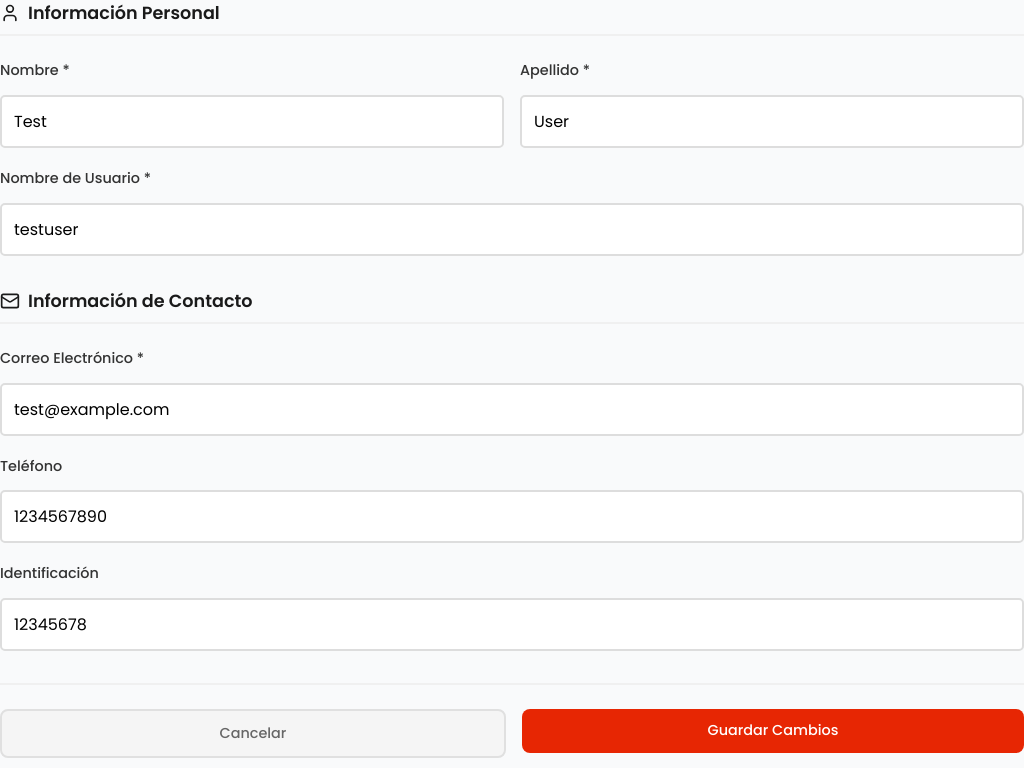
Test: ProfileEditForm › valida formato de teléfono
The image size is (1024, 768).
Replace the text in the field showing "1234567890" with "invalid-phone": (512, 517) x1=0 y1=490 x2=1023 y2=543
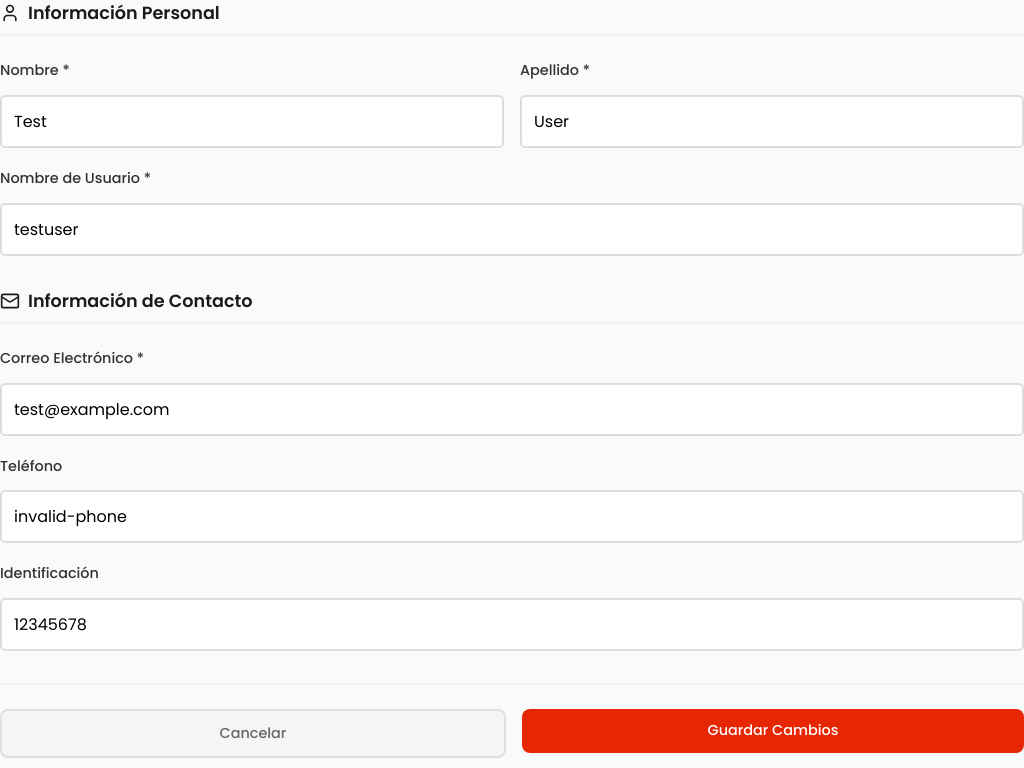
Click the button "Guardar Cambios": click(773, 731) x1=522 y1=709 x2=1023 y2=753
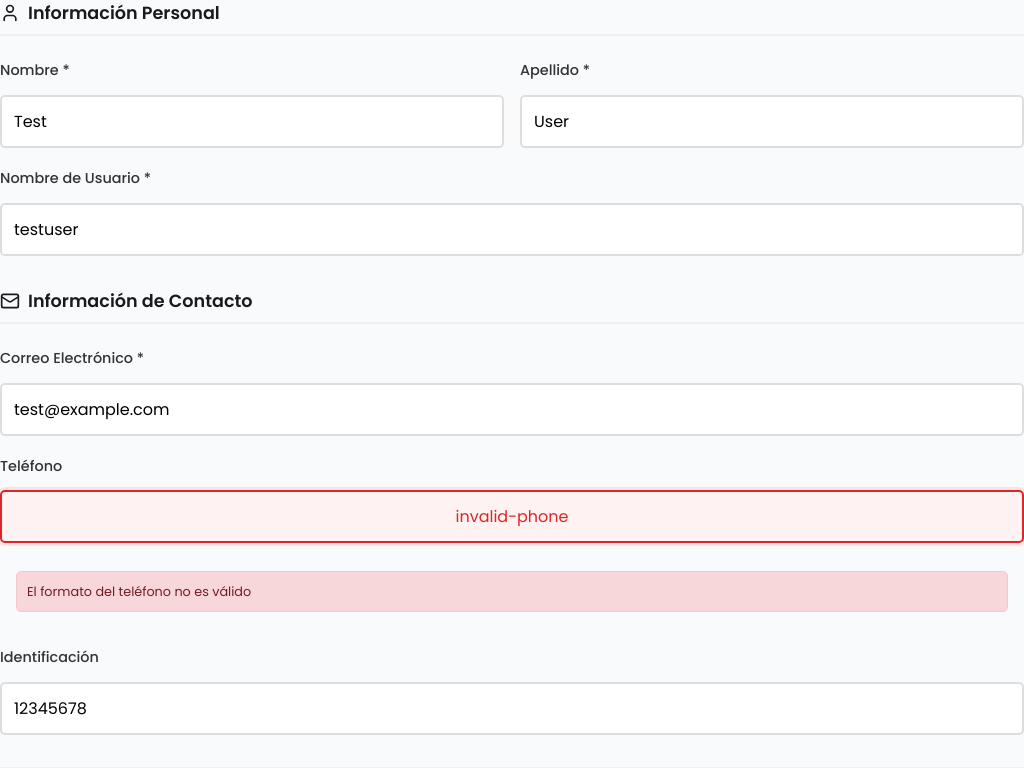
Result: the text "El formato del teléfono no es válido" is shown at x1=16 y1=571 x2=1008 y2=612
